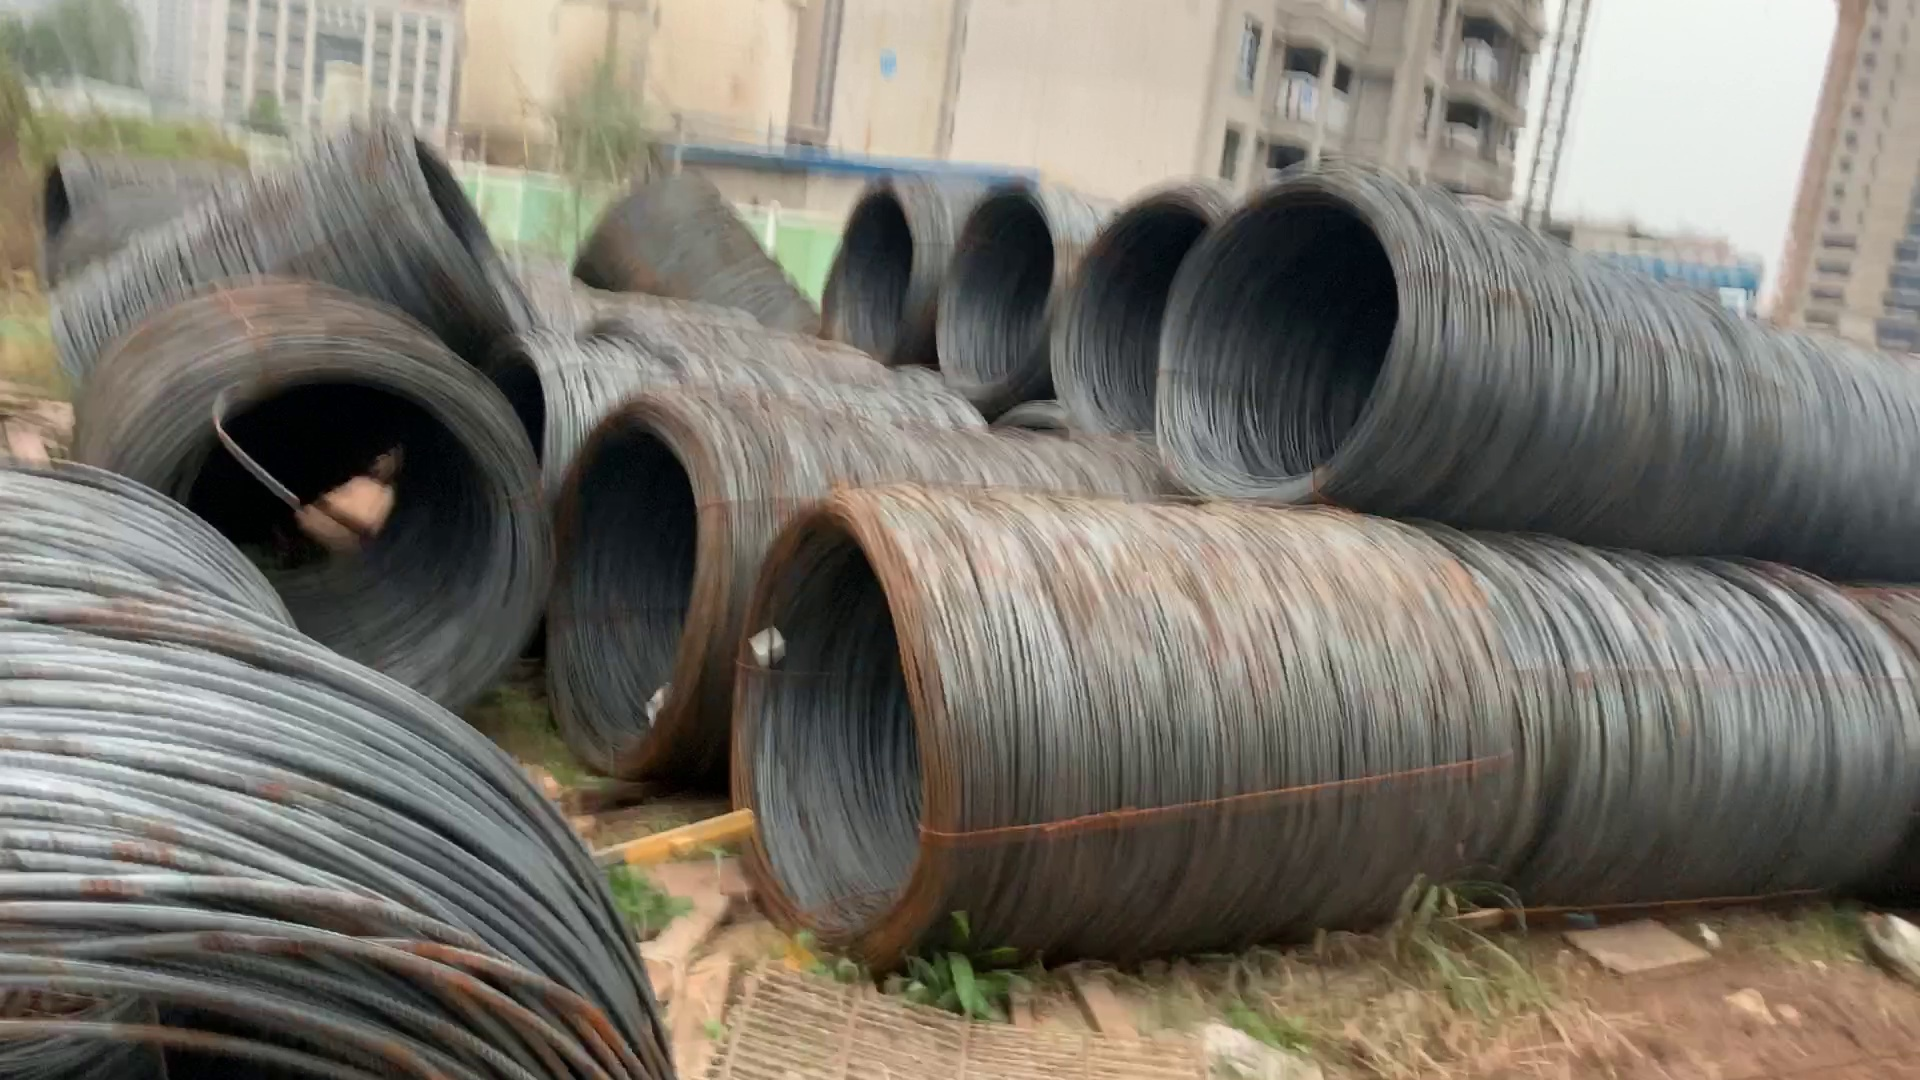coil: (127, 352, 560, 727), (729, 491, 963, 971), (1156, 185, 1407, 496), (538, 393, 724, 779), (1052, 202, 1221, 438), (400, 124, 553, 371), (804, 179, 935, 382), (940, 179, 1054, 413), (36, 149, 90, 272)
